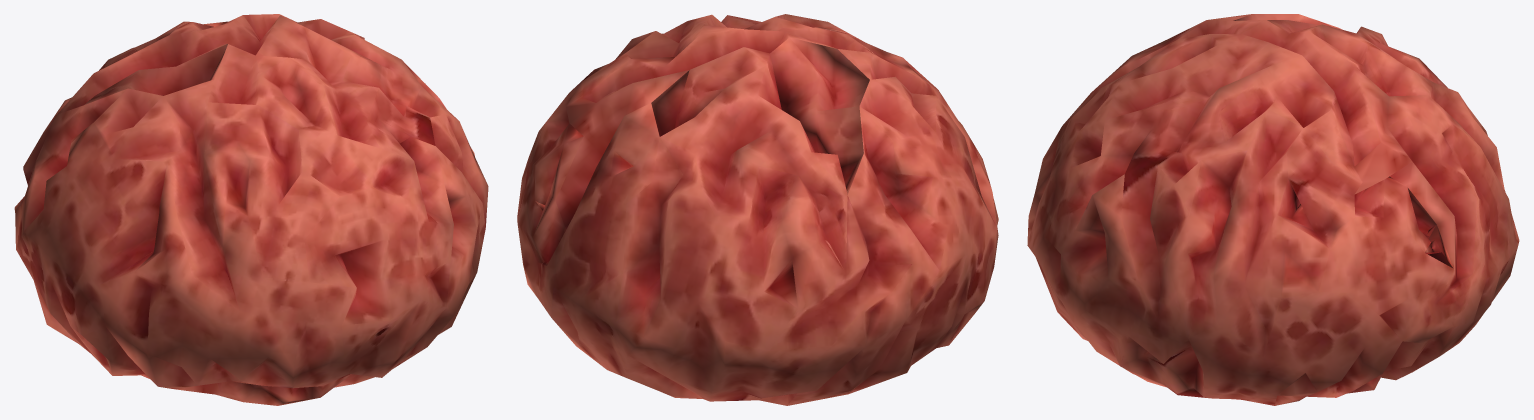
File: coral-brain.glb
3 renders of one model, left to right at view 1: azimuth 30°, elevation 25°; view 2: azimuth 150°, elevation 25°; view 3: azimuth 270°, elevation 25°, orthographic.
Visible parts, largest first — view 1: Mesh_0; view 2: Mesh_0; view 3: Mesh_0.
Boxes of the visible parts, x1,y1,x2,y2 form: Mesh_0: (14,14,488,405); Mesh_0: (517,14,998,405); Mesh_0: (1027,14,1519,405).
Bounding box in the file's own units: 1.58 × 1.14 × 1.6.
1 material, 1 textured.
